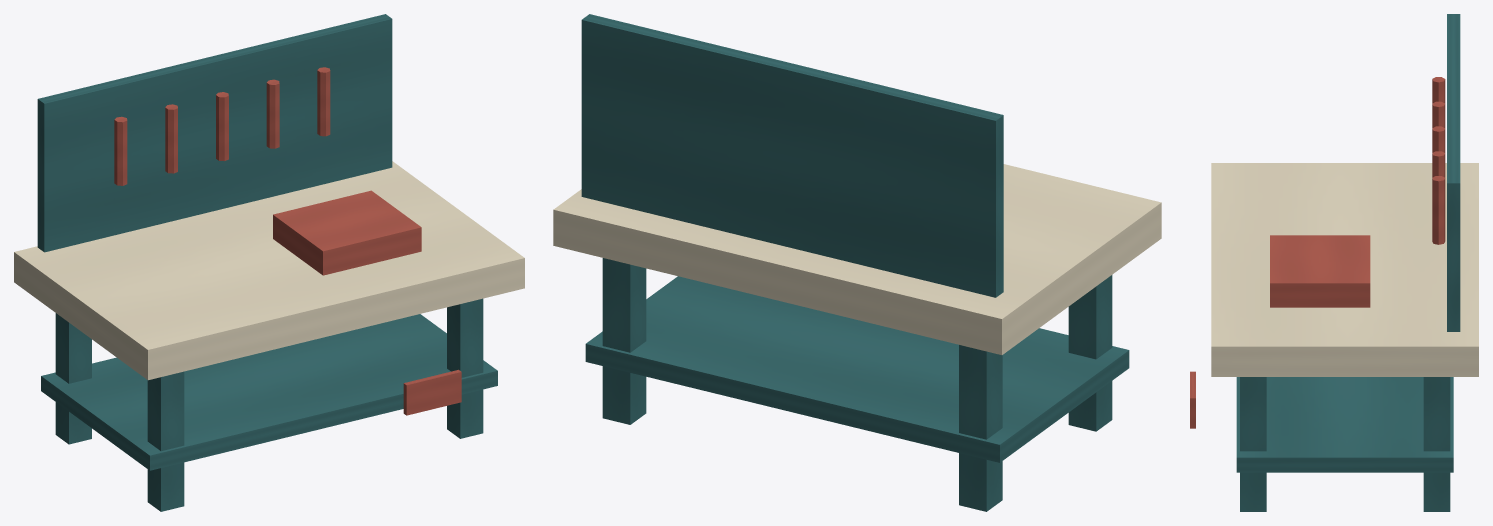
File: atlas100-s032-a02.lod1.glb
The picture shows the model from 3 angles, left to right: view 1: azimuth 30°, elevation 25°; view 2: azimuth 150°, elevation 25°; view 3: azimuth 270°, elevation 25°; orthographic projection. The views are drawn at different scales.
Visible parts, largest first — view 1: atlas100-s032-a02:part-004, atlas100-s032-a02:part-006, atlas100-s032-a02:part-005, atlas100-s032-a02:part-012, atlas100-s032-a02:part-001, atlas100-s032-a02:part-003, atlas100-s032-a02:part-000, atlas100-s032-a02:part-013, atlas100-s032-a02:part-010, atlas100-s032-a02:part-011, atlas100-s032-a02:part-007, atlas100-s032-a02:part-008 (+1 smaller); view 2: atlas100-s032-a02:part-006, atlas100-s032-a02:part-005, atlas100-s032-a02:part-004, atlas100-s032-a02:part-002, atlas100-s032-a02:part-000, atlas100-s032-a02:part-001; view 3: atlas100-s032-a02:part-004, atlas100-s032-a02:part-005, atlas100-s032-a02:part-012, atlas100-s032-a02:part-006, atlas100-s032-a02:part-002, atlas100-s032-a02:part-003, atlas100-s032-a02:part-011, atlas100-s032-a02:part-009, atlas100-s032-a02:part-008, atlas100-s032-a02:part-007, atlas100-s032-a02:part-010, atlas100-s032-a02:part-013.
Boxes of the visible parts, bbox=[...] form: atlas100-s032-a02:part-004: bbox=[14, 161, 524, 380]; atlas100-s032-a02:part-006: bbox=[37, 14, 392, 252]; atlas100-s032-a02:part-005: bbox=[41, 314, 497, 470]; atlas100-s032-a02:part-012: bbox=[273, 190, 421, 275]; atlas100-s032-a02:part-001: bbox=[147, 371, 184, 511]; atlas100-s032-a02:part-003: bbox=[447, 298, 483, 438]; atlas100-s032-a02:part-000: bbox=[55, 313, 91, 444]; atlas100-s032-a02:part-013: bbox=[403, 369, 461, 415]; atlas100-s032-a02:part-010: bbox=[266, 79, 279, 148]; atlas100-s032-a02:part-011: bbox=[317, 67, 330, 136]; atlas100-s032-a02:part-007: bbox=[114, 116, 127, 185]; atlas100-s032-a02:part-008: bbox=[165, 104, 177, 173]; atlas100-s032-a02:part-006: bbox=[581, 14, 1003, 297]; atlas100-s032-a02:part-005: bbox=[585, 276, 1129, 462]; atlas100-s032-a02:part-004: bbox=[553, 164, 1161, 354]; atlas100-s032-a02:part-002: bbox=[602, 258, 646, 424]; atlas100-s032-a02:part-000: bbox=[959, 345, 1002, 511]; atlas100-s032-a02:part-001: bbox=[1068, 275, 1112, 431]; atlas100-s032-a02:part-004: bbox=[1211, 163, 1478, 376]; atlas100-s032-a02:part-005: bbox=[1236, 377, 1453, 472]; atlas100-s032-a02:part-012: bbox=[1270, 235, 1370, 307]; atlas100-s032-a02:part-006: bbox=[1447, 14, 1460, 331]; atlas100-s032-a02:part-002: bbox=[1423, 377, 1450, 511]; atlas100-s032-a02:part-003: bbox=[1240, 377, 1266, 511]; atlas100-s032-a02:part-011: bbox=[1432, 176, 1445, 244]; atlas100-s032-a02:part-009: bbox=[1432, 126, 1445, 152]; atlas100-s032-a02:part-008: bbox=[1432, 101, 1445, 127]; atlas100-s032-a02:part-007: bbox=[1432, 77, 1445, 103]; atlas100-s032-a02:part-010: bbox=[1432, 151, 1445, 177]; atlas100-s032-a02:part-013: bbox=[1190, 371, 1195, 428].
Size of the model in its own units: 2.6 by 2.21 by 1.73.
3 materials, 3 textured.
